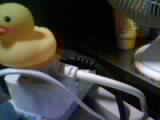duck: (2, 8, 51, 71)
